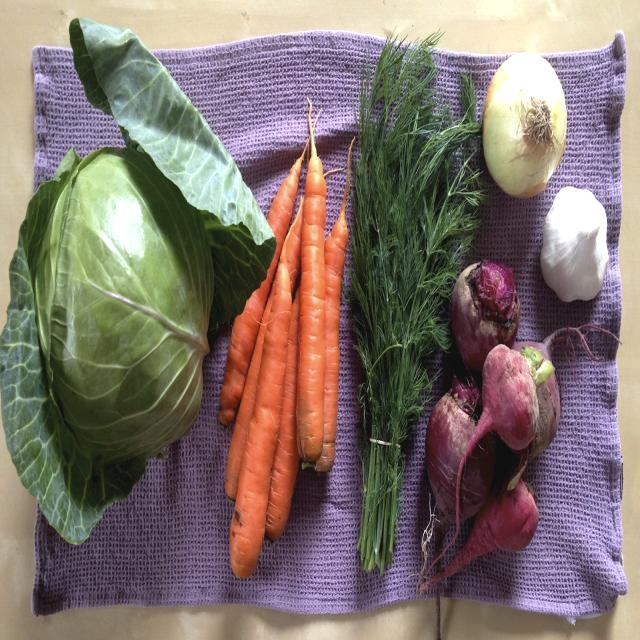beet: (422, 374, 488, 502), (472, 335, 544, 445), (460, 249, 526, 357)
cabbage: (5, 66, 215, 556)
carrot: (233, 254, 294, 578), (298, 132, 331, 474), (320, 178, 350, 492)
garlic: (537, 175, 611, 310)
onion: (484, 43, 568, 199)
